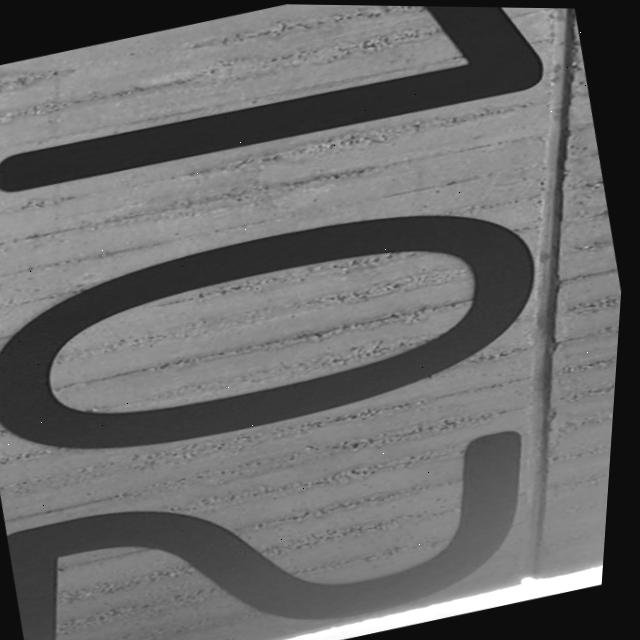character: (0, 167, 569, 495), (0, 411, 564, 640), (0, 0, 557, 212)
